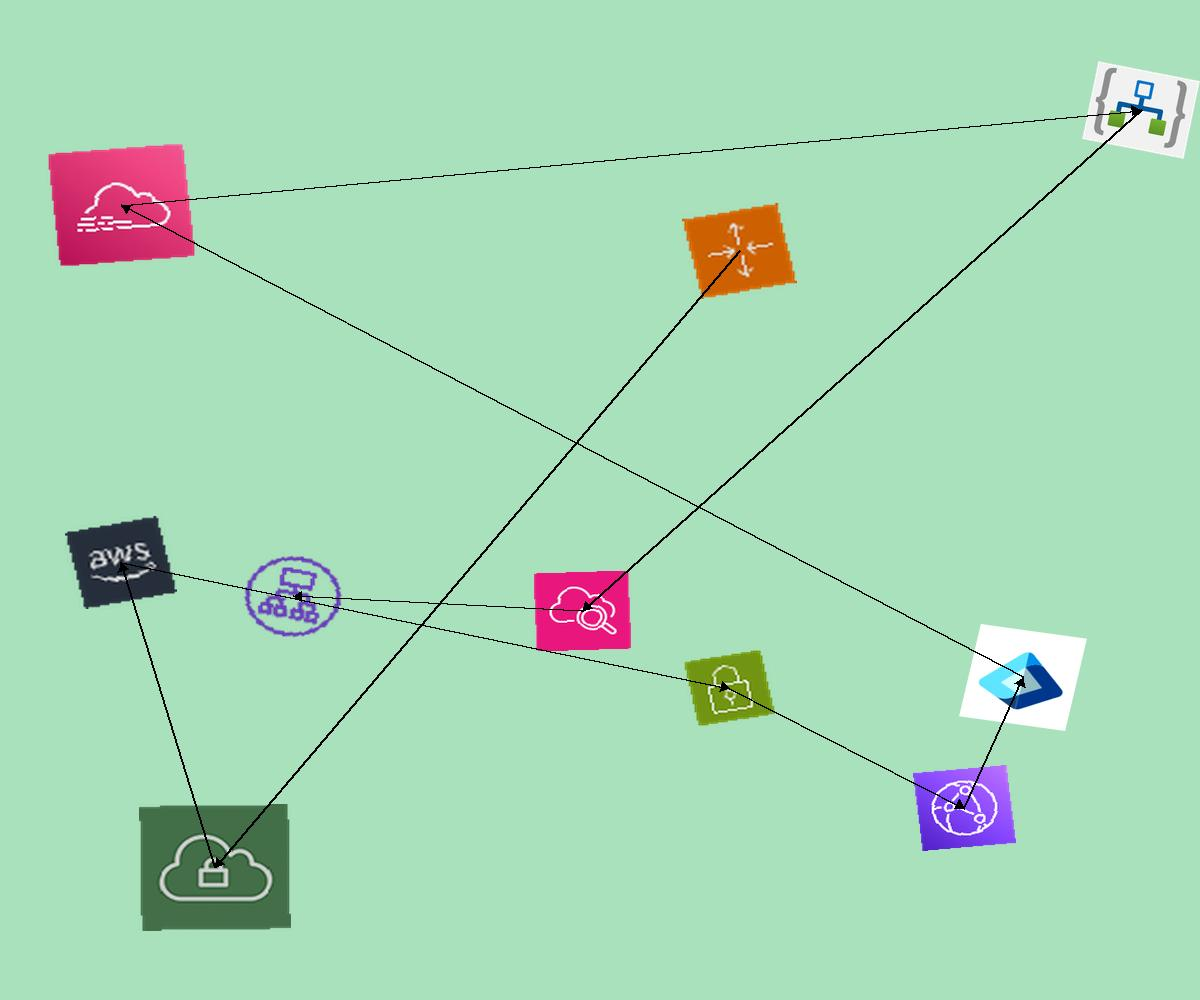AWS-Cloud-logo: (65, 516, 177, 609)
AWS-CloudFront: (913, 765, 1016, 851)
AWS-CloudTrail: (47, 143, 196, 267)
AWS-CloudWatch: (533, 570, 632, 652)
AWS-Private_vpc: (139, 804, 291, 931)
AWS-Public-subnet: (683, 649, 776, 727)
AWS-Res_Elastic-Load-Balancing_Application-Load-Balancer: (230, 544, 356, 649)
AWS-Scaling-group: (682, 203, 797, 299)
Azure_integration-204-Logic-Apps: (1082, 61, 1200, 159)
Azure_microsoft_entra: (959, 624, 1087, 731)
